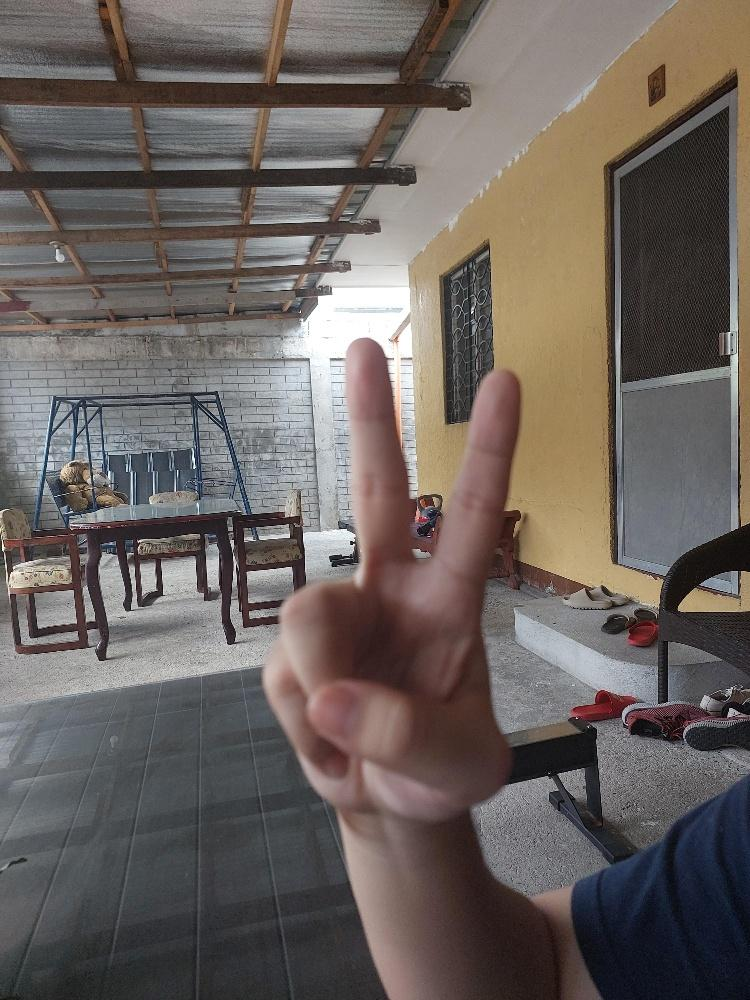v: (257, 329, 524, 829)
